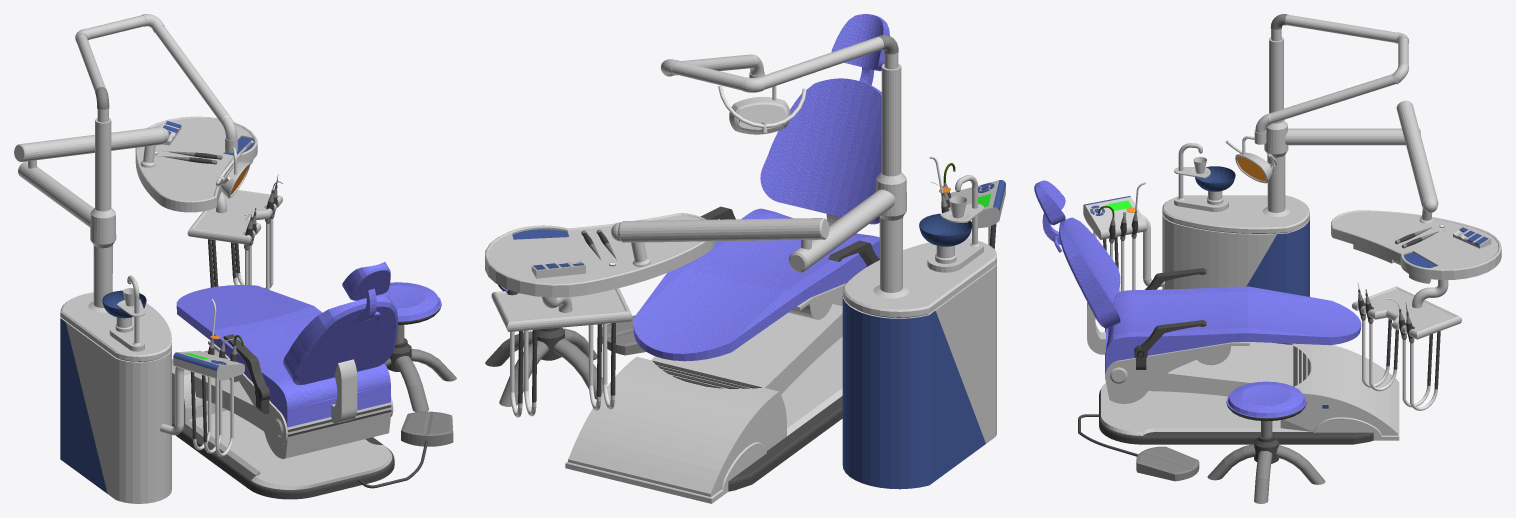
The model's file is dentistry.glb.
The picture shows the model from 3 angles, left to right: view 1: azimuth 30°, elevation 25°; view 2: azimuth 150°, elevation 25°; view 3: azimuth 270°, elevation 25°; orthographic projection. The views are drawn at different scales.
Parts seen in each view (by area): view 1: Sketchup, Component#1, Component#3, Component#9, Component#4, Component#2.001, Component#8, Component#7, Component#5, Component#6, Component#13, Component#12 (+1 smaller); view 2: Sketchup, Component#1, Component#3, Component#9, Component#8, Component#4, Component#10, Component#11, Component#13, Component#12, Component#2.001; view 3: Sketchup, Component#1, Component#3, Component#4, Component#9, Component#8, Component#2, Component#13, Component#12, Component#10, Component#11, Component#7.
Part boxes in pixels (left/top/right/bottom): Sketchup: left=18, top=14, right=456, bottom=503; Component#1: left=176, top=285, right=390, bottom=427; Component#3: left=283, top=262, right=397, bottom=385; Component#9: left=14, top=127, right=169, bottom=167; Component#4: left=160, top=350, right=244, bottom=435; Component#2.001: left=223, top=334, right=270, bottom=413; Component#8: left=216, top=140, right=253, bottom=198; Component#7: left=190, top=299, right=220, bottom=450; Component#5: left=215, top=335, right=243, bottom=456; Component#6: left=202, top=338, right=237, bottom=453; Component#13: left=234, top=174, right=278, bottom=288; Component#12: left=231, top=181, right=283, bottom=289; Sketchup: left=485, top=35, right=996, bottom=503; Component#1: left=633, top=208, right=879, bottom=361; Component#3: left=760, top=14, right=889, bottom=224; Component#9: left=611, top=218, right=829, bottom=266; Component#8: left=718, top=85, right=806, bottom=134; Component#4: left=948, top=180, right=1005, bottom=238; Component#10: left=602, top=323, right=615, bottom=409; Component#11: left=588, top=324, right=602, bottom=410; Component#13: left=508, top=289, right=523, bottom=417; Component#12: left=524, top=329, right=537, bottom=416; Component#2.001: left=828, top=240, right=879, bottom=266; Sketchup: left=1078, top=14, right=1501, bottom=503; Component#1: left=1106, top=286, right=1361, bottom=369; Component#3: left=1034, top=180, right=1120, bottom=328; Component#4: left=1083, top=196, right=1164, bottom=286; Component#9: left=1396, top=100, right=1438, bottom=223; Component#8: left=1225, top=140, right=1276, bottom=183; Component#2: left=1134, top=320, right=1206, bottom=369; Component#13: left=1405, top=302, right=1440, bottom=410; Component#12: left=1385, top=298, right=1432, bottom=407; Component#10: left=1357, top=283, right=1391, bottom=387; Component#11: left=1365, top=289, right=1398, bottom=391; Component#7: left=1114, top=182, right=1145, bottom=291.
Bounding box in the file's own units: 2.29 × 2.08 × 2.63.
14 materials, 2 textured.
